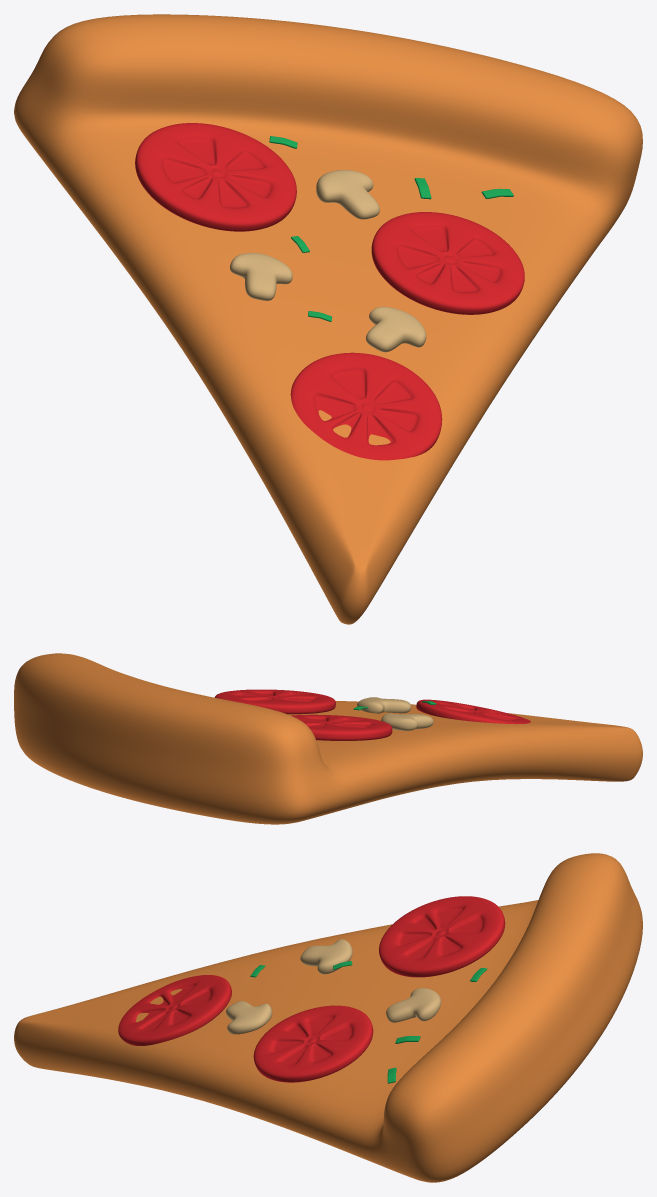
The model's file is PizzaSlice.fbx.
The picture shows the model from 3 angles, top to bottom: view 1: azimuth 30°, elevation 25°; view 2: azimuth 150°, elevation 25°; view 3: azimuth 270°, elevation 25°; orthographic projection. The views are drawn at different scales.
Parts seen in each view (by area): view 1: PizzaSlice; view 2: PizzaSlice; view 3: PizzaSlice.
Part boxes in pixels (x1,y1,x2,y2): PizzaSlice: (14,14,642,624); PizzaSlice: (14,653,642,824); PizzaSlice: (14,853,642,1182).
Size of the model in its own units: 5.06 by 2.75 by 6.35.
